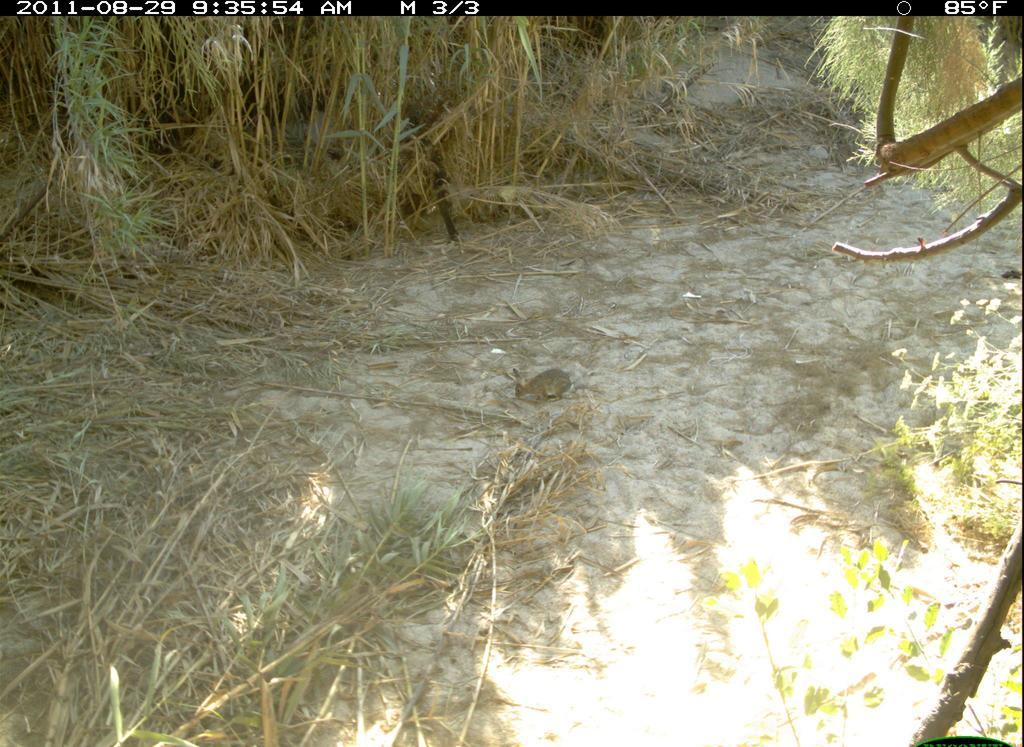rabbit: (501, 351, 583, 414)
